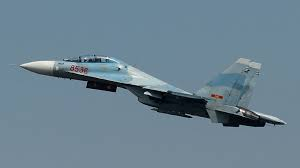maybay_muctieu: (17, 45, 287, 127)
